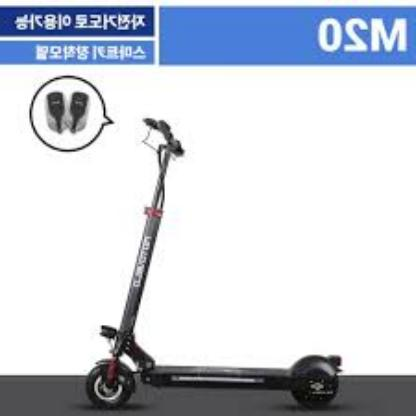bike: (84, 113, 346, 412)
